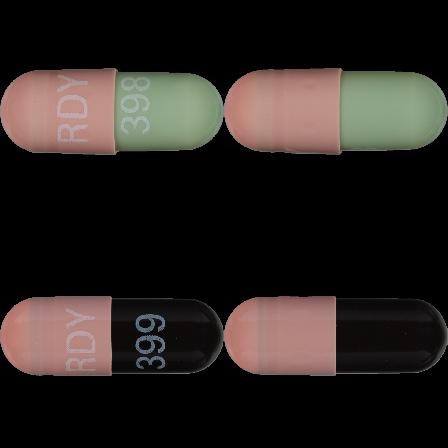55111-398: (0, 0, 224, 224)
